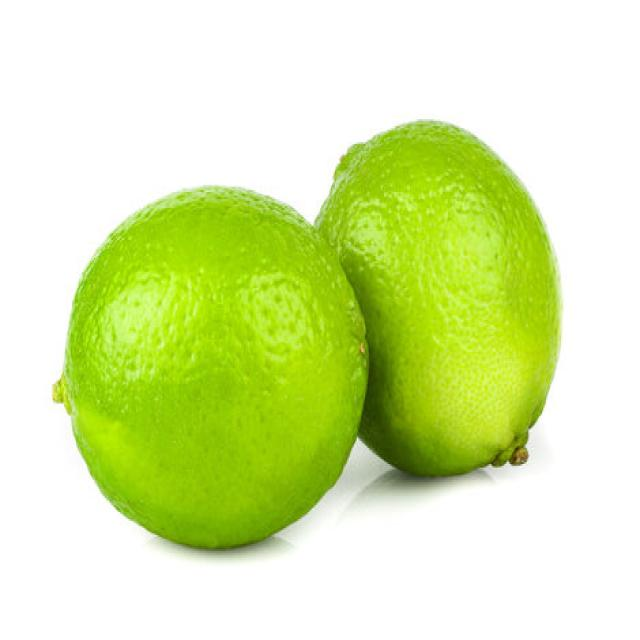Lemon: (51, 182, 370, 550), (312, 116, 562, 477)
